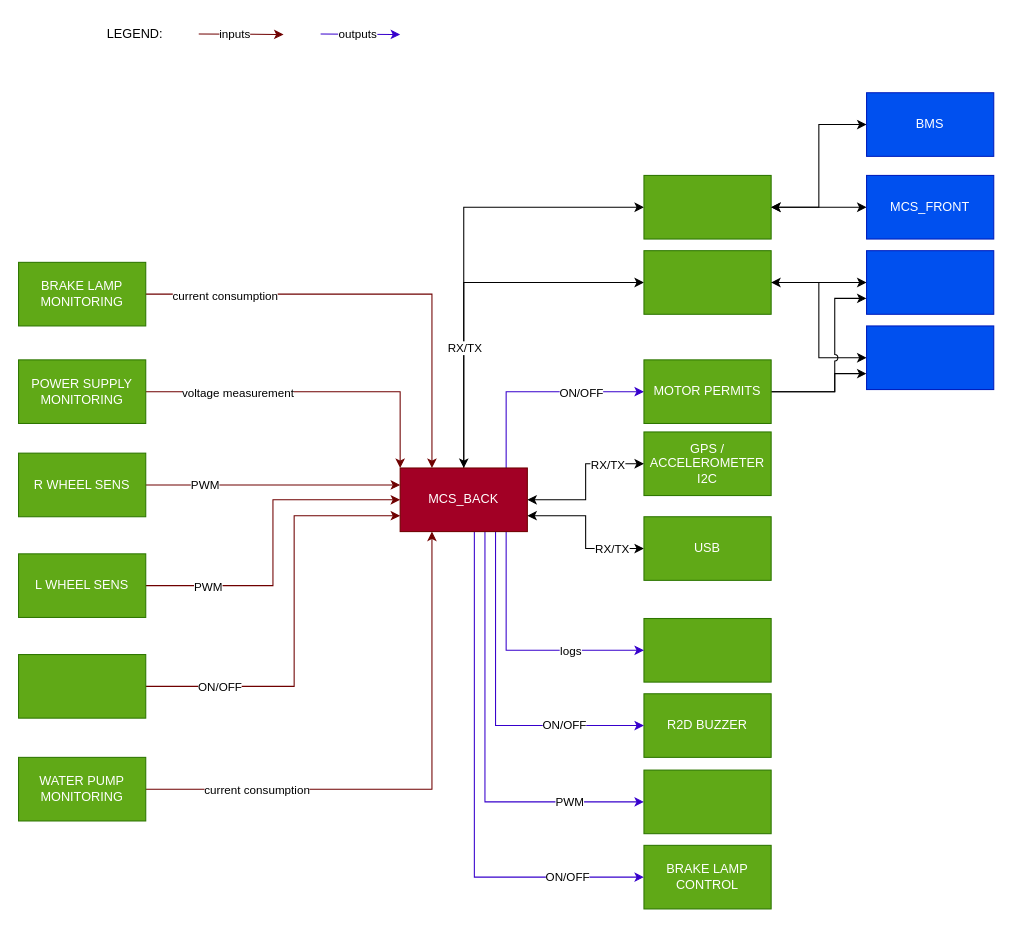
The diagram is 1012 pixels wide and 927 high, and some of its shapes have lost their labels. The shapes that lost their labels are listed below. From the top down, each one's box as (x1, y1, x2, y2) in pixels, then its label:
(643, 174, 771, 239): CAN 1
(643, 250, 771, 314): CAN 2
(865, 250, 994, 314): R MOTOR DRIVER
(865, 325, 994, 390): L MOTOR DRIVER
(643, 617, 771, 682): SD CARD
(17, 653, 146, 718): SDC STATUS
(643, 769, 771, 834): WATER PUMP CONTROL
